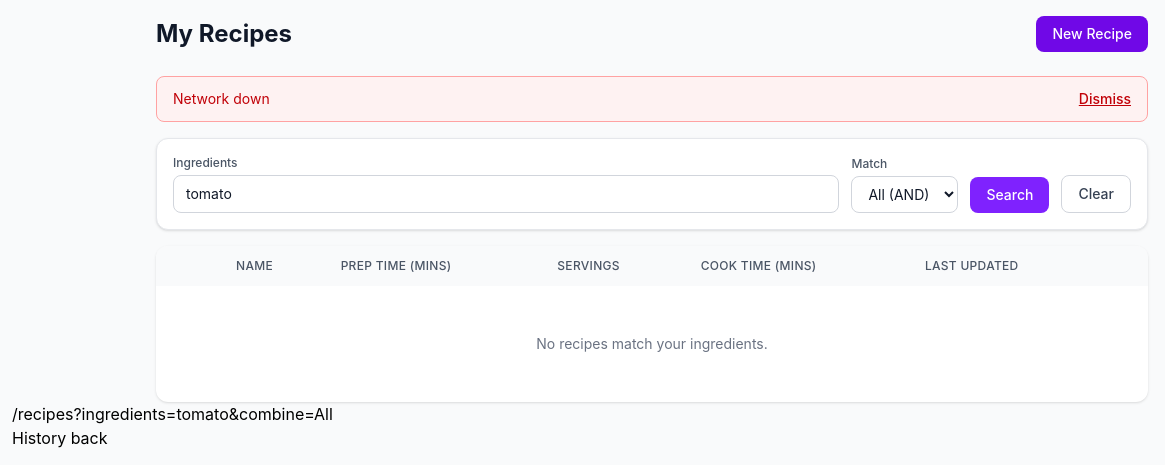
RecipeList › retries the same filter after search fails
This screenshot has width=1165, height=465.
Check: the message shows "Network down", box [173,90,270,107]
Click the button "Search" at (1010,195), box [970,177,1050,213]
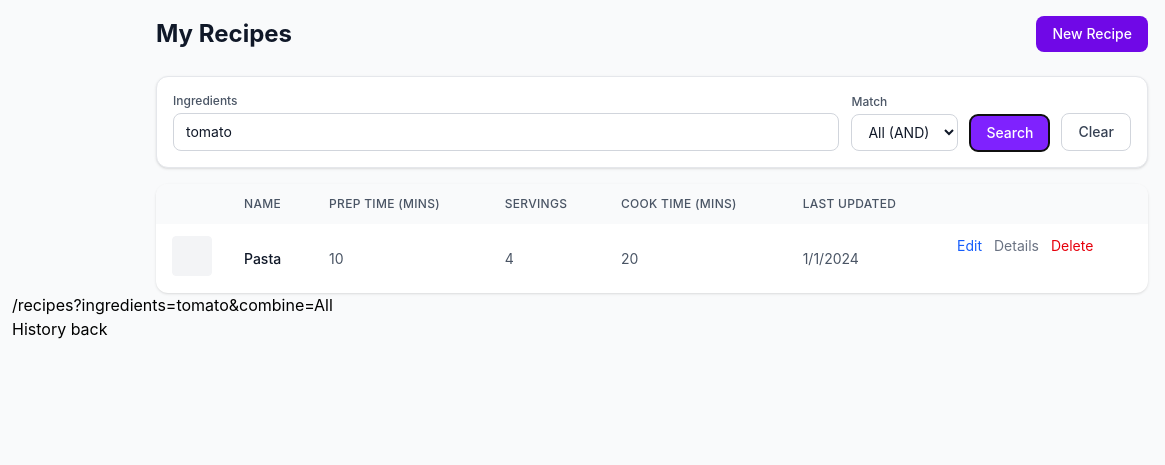
Check: the link "Pasta" is shown, box [244,250,281,266]
Check: the message "Network down Dismiss" is gone
